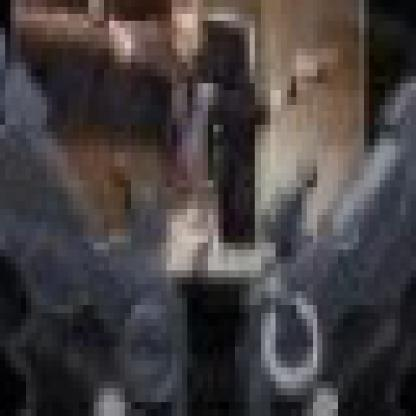gun: (0, 0, 193, 410), (244, 0, 411, 409)
